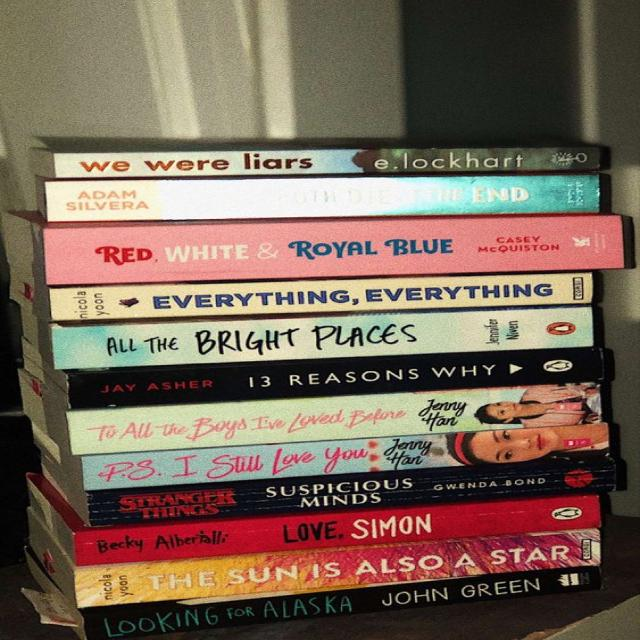book: (42, 215, 629, 286), (78, 531, 602, 608), (68, 384, 600, 456), (86, 458, 623, 526), (83, 568, 590, 640), (77, 496, 600, 565), (82, 422, 608, 490), (51, 306, 598, 369), (66, 347, 613, 408), (49, 273, 592, 321), (45, 174, 599, 221), (55, 145, 609, 178)
